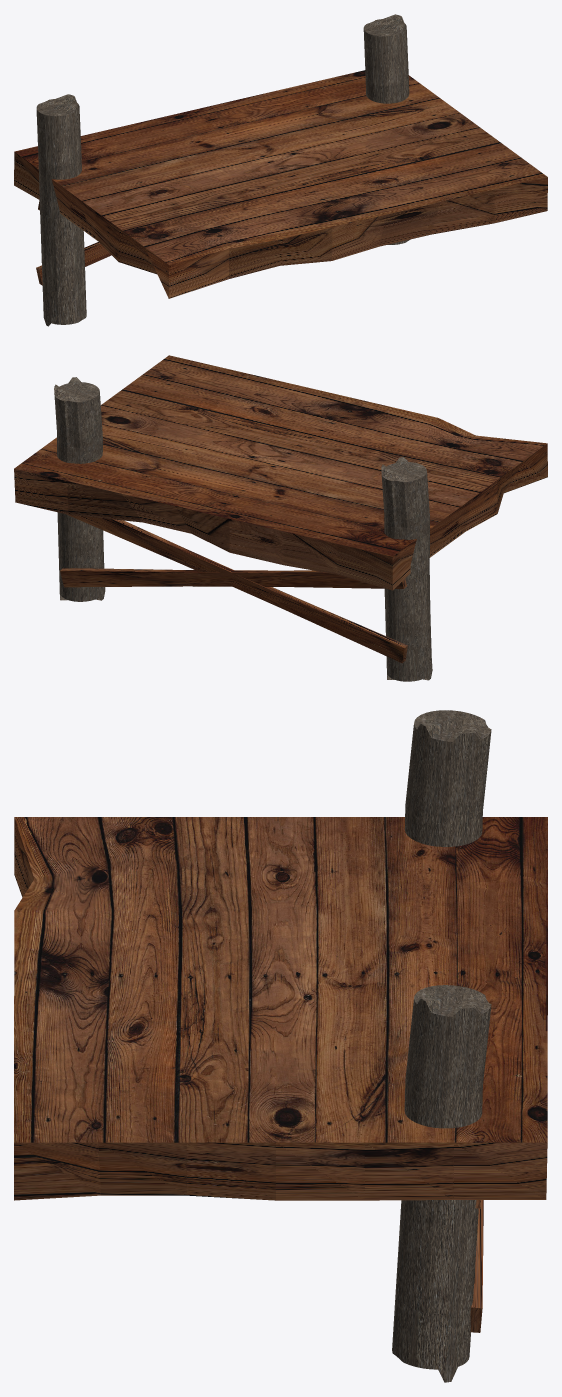
File: docks_double.fbx
3 renders of one model, top to bottom at view 1: azimuth 30°, elevation 25°; view 2: azimuth 150°, elevation 25°; view 3: azimuth 270°, elevation 25°, orthographic. The views are drawn at different scales.
Visible parts, largest first — view 1: Cube, Cylinder.001, Cylinder, Cube.001; view 2: Cube, Cylinder.001, Cylinder, Cube.001, Cube.002; view 3: Cube, Cylinder, Cylinder.001, Cube.002.
Boxes of the visible parts, left/top/right/bottom form: Cube: left=14, top=70, right=547, bottom=298; Cylinder.001: left=36, top=94, right=86, bottom=326; Cylinder: left=363, top=14, right=410, bottom=244; Cube.001: left=36, top=242, right=111, bottom=285; Cube: left=14, top=355, right=547, bottom=590; Cylinder.001: left=381, top=457, right=432, bottom=681; Cylinder: left=54, top=377, right=105, bottom=601; Cube.001: left=66, top=514, right=407, bottom=663; Cube.002: left=60, top=568, right=406, bottom=588; Cube: left=14, top=817, right=547, bottom=1200; Cylinder: left=392, top=985, right=491, bottom=1382; Cylinder.001: left=404, top=710, right=491, bottom=846; Cube.002: left=470, top=1200, right=483, bottom=1332.
Bounding box in the file's own units: 1156 × 632 × 812.
